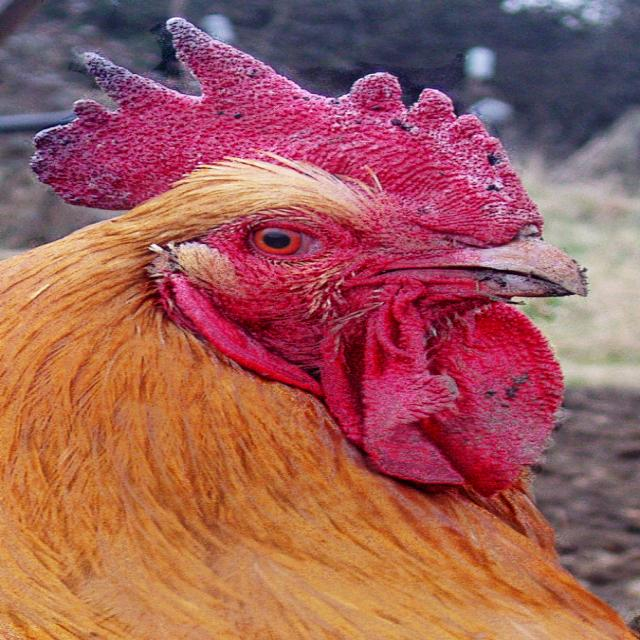Chicken: (0, 13, 639, 639)
